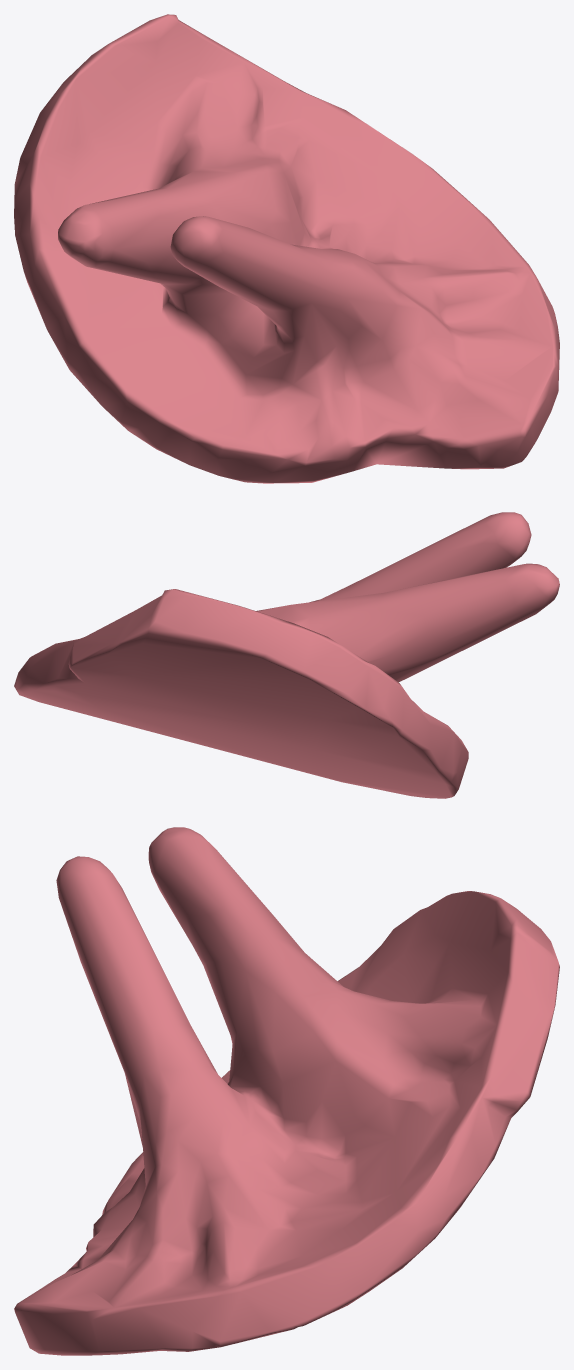
3 views of the same model, one above another, from view 1: azimuth 30°, elevation 25°; view 2: azimuth 150°, elevation 25°; view 3: azimuth 270°, elevation 25° (orthographic). The views are drawn at different scales.
Visible parts, largest first — view 1: 右心室前乳头肌; view 2: 右心室前乳头肌; view 3: 右心室前乳头肌.
Part boxes in pixels (box(x1,y1,x2,y2)): 右心室前乳头肌: box(14, 14, 559, 483); 右心室前乳头肌: box(14, 512, 559, 798); 右心室前乳头肌: box(14, 827, 559, 1355).
Bounding box in the file's own units: 0.0537 × 0.0328 × 0.0447.
